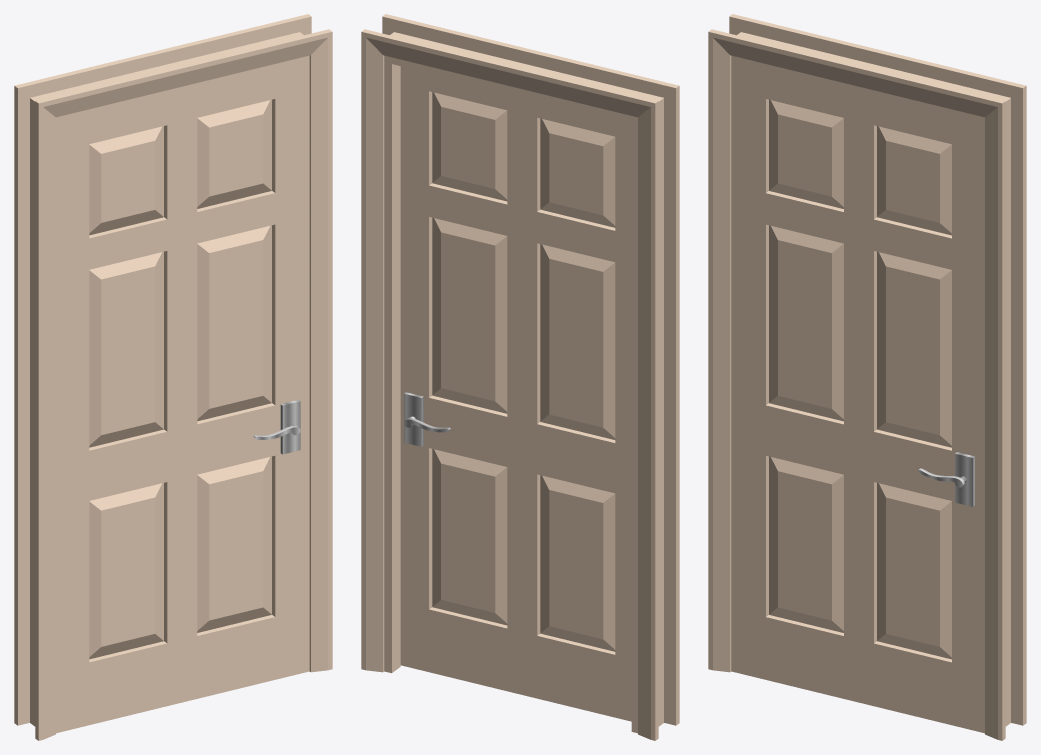
The model's file is internaldoor.dae.
3 renders of one model, left to right at view 1: azimuth 30°, elevation 25°; view 2: azimuth 150°, elevation 25°; view 3: azimuth 330°, elevation 25°, orthographic.
Visible parts, largest first — view 1: intdoor.dxf; view 2: intdoor.dxf; view 3: intdoor.dxf.
Part boxes in pixels (x1,y1,x2,y2): intdoor.dxf: (14, 14, 332, 740); intdoor.dxf: (361, 14, 679, 740); intdoor.dxf: (708, 14, 1026, 740).
Size of the model in its own units: 0.9797 by 0.1616 by 2.03.
Materials: 2 (1 with a texture image).
